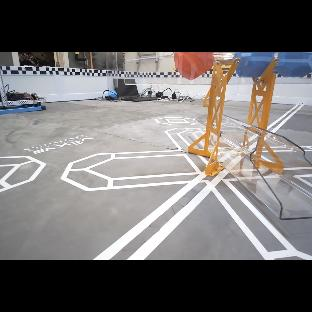Robot: (0, 71, 45, 110)
V5_BLUE: (109, 91, 117, 98)
blueingoal: (233, 52, 275, 77), (276, 52, 312, 77)
redingoal: (174, 52, 213, 80)
